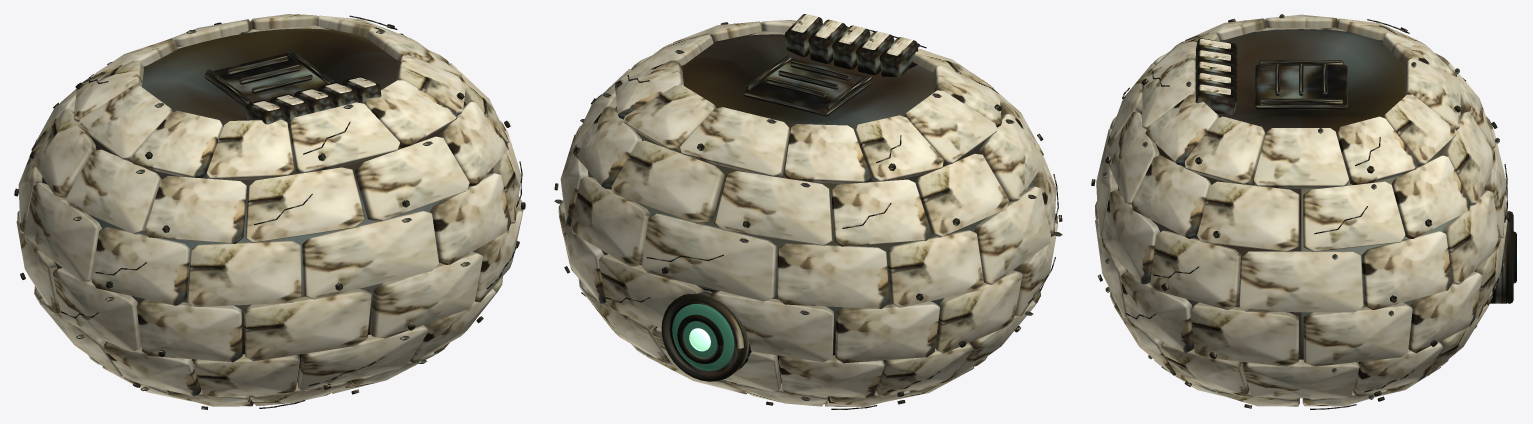
The model's file is body-assembler-astra2-v3.glb.
3 renders of one model, left to right at view 1: azimuth 30°, elevation 25°; view 2: azimuth 150°, elevation 25°; view 3: azimuth 270°, elevation 25°, orthographic. The views are drawn at different scales.
Parts seen in each view (by area): view 1: assembler-ceramic, assembler-steel, assembler-metal, assembler-brass; view 2: assembler-ceramic, assembler-steel, assembler-metal, assembler-brass, assembler-glass; view 3: assembler-ceramic, assembler-steel, assembler-metal, assembler-brass.
Boxes of the visible parts, <box> form: assembler-ceramic: <box>16,14,523,406</box>; assembler-steel: <box>42,28,493,381</box>; assembler-metal: <box>53,15,522,408</box>; assembler-brass: <box>14,22,525,409</box>; assembler-ceramic: <box>558,14,1058,406</box>; assembler-steel: <box>588,34,1032,382</box>; assembler-metal: <box>554,14,1062,409</box>; assembler-brass: <box>554,22,1062,405</box>; assembler-glass: <box>672,304,734,370</box>; assembler-ceramic: <box>1095,14,1507,406</box>; assembler-steel: <box>1118,29,1484,364</box>; assembler-metal: <box>1102,14,1516,409</box>; assembler-brass: <box>1091,18,1513,408</box>.
Size of the model in its own units: 1.46 by 0.9732 by 1.27.
Materials: 6 (4 with a texture image).
